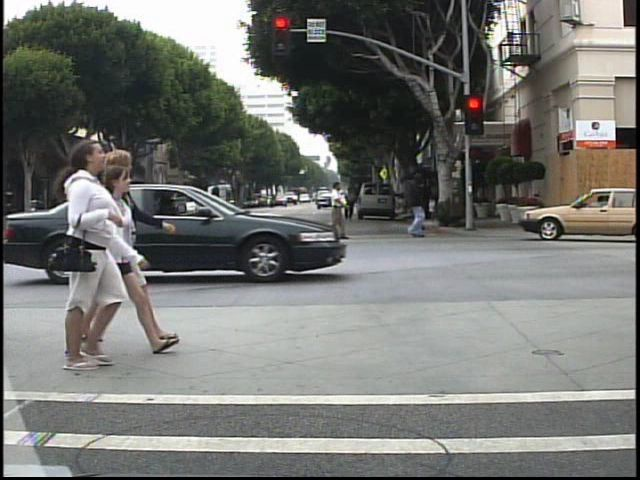person: (40, 142, 136, 377), (104, 162, 175, 366), (104, 145, 166, 350), (398, 167, 437, 240), (323, 176, 350, 241), (151, 187, 175, 250), (74, 190, 99, 246), (202, 182, 225, 241), (68, 184, 88, 247), (342, 187, 358, 222)
